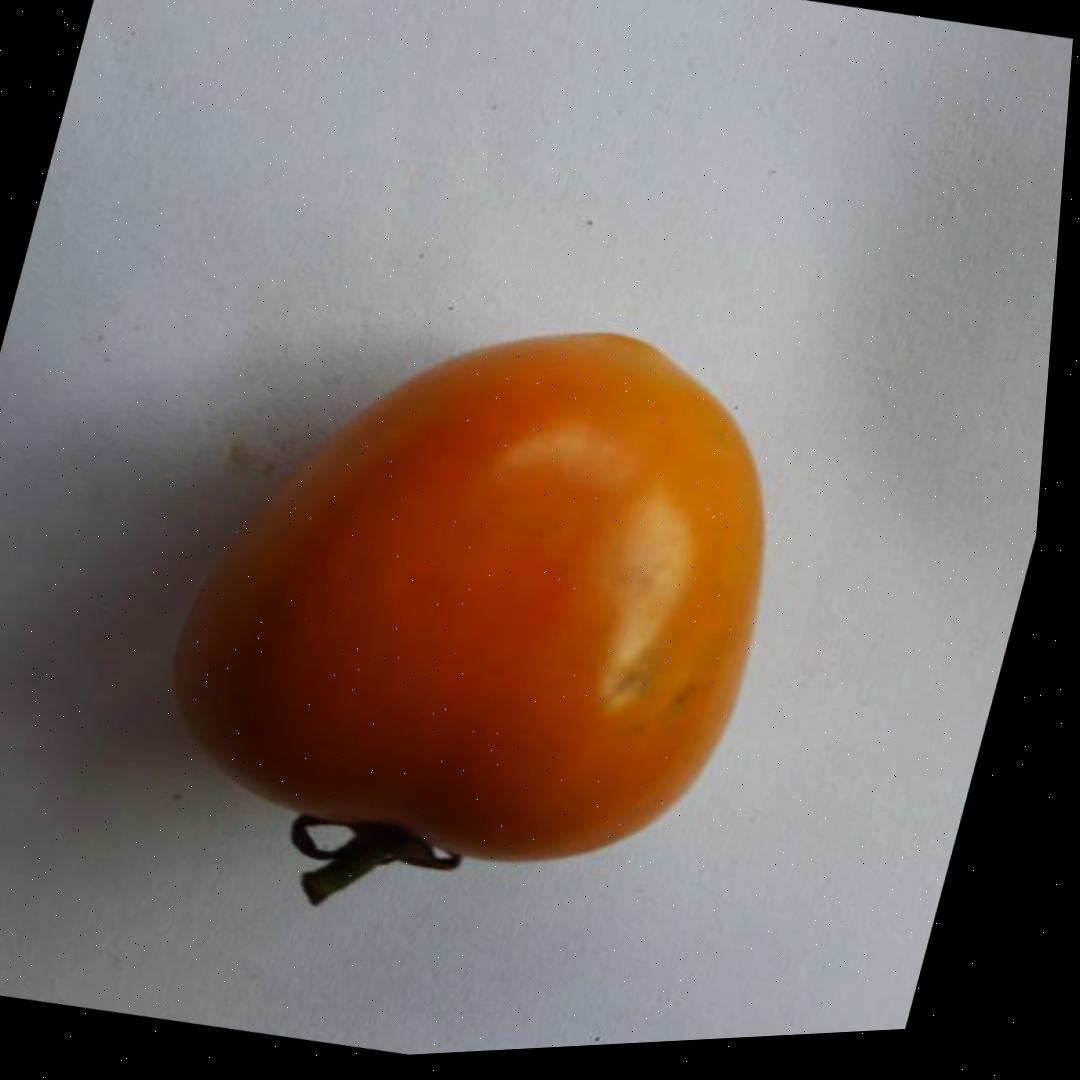setengah_matang: (123, 253, 839, 923)
